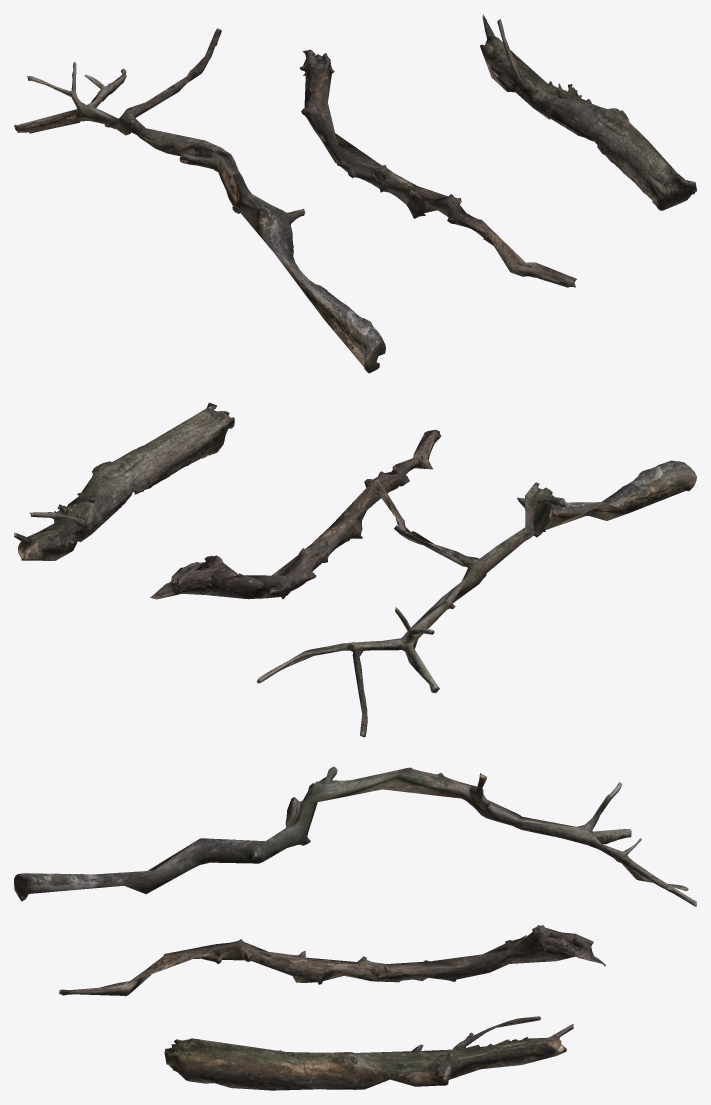
The model's file is dry_branches_medium_01.glb.
3 views of the same model, one above another, from view 1: azimuth 30°, elevation 25°; view 2: azimuth 150°, elevation 25°; view 3: azimuth 270°, elevation 25° (orthographic). The views are drawn at different scales.
Parts seen in each view (by area): view 1: dry_branches_medium_01_a, dry_branches_medium_01_c, dry_branches_medium_01_b; view 2: dry_branches_medium_01_a, dry_branches_medium_01_c, dry_branches_medium_01_b; view 3: dry_branches_medium_01_a, dry_branches_medium_01_c, dry_branches_medium_01_b.
Part boxes in pixels (left/top/right/bottom): dry_branches_medium_01_a: left=14, top=28, right=385, bottom=373; dry_branches_medium_01_c: left=480, top=14, right=696, bottom=210; dry_branches_medium_01_b: left=300, top=49, right=576, bottom=287; dry_branches_medium_01_a: left=256, top=460, right=696, bottom=737; dry_branches_medium_01_c: left=14, top=402, right=234, bottom=560; dry_branches_medium_01_b: left=150, top=429, right=440, bottom=599; dry_branches_medium_01_a: left=14, top=766, right=696, bottom=906; dry_branches_medium_01_c: left=164, top=1016, right=573, bottom=1090; dry_branches_medium_01_b: left=59, top=925, right=605, bottom=996.
Bounding box in the file's own units: 1.06 × 0.3401 × 1.3.
1 material, 1 textured.
